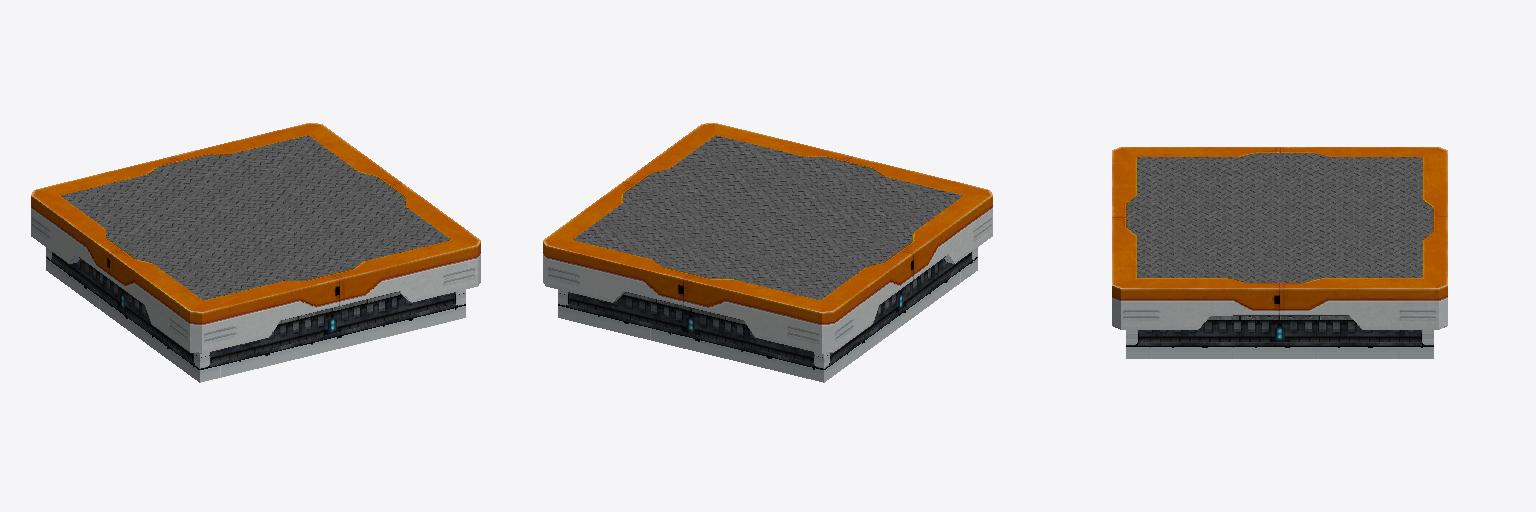
3 views of the same model, side by side, from view 1: azimuth 30°, elevation 25°; view 2: azimuth 150°, elevation 25°; view 3: azimuth 270°, elevation 25° (orthographic).
Visible parts, largest first — view 1: polygon3, polygon0, polygon1, polygon4, polygon2; view 2: polygon3, polygon0, polygon1, polygon4, polygon2; view 3: polygon3, polygon1, polygon0, polygon4, polygon2.
Boxes of the visible parts, x1,y1,x2,y2 form: polygon3: [61, 135, 450, 300]; polygon0: [31, 196, 480, 353]; polygon1: [31, 123, 480, 312]; polygon4: [52, 252, 454, 366]; polygon2: [46, 255, 465, 382]; polygon3: [573, 135, 962, 300]; polygon0: [543, 196, 992, 353]; polygon1: [543, 123, 992, 312]; polygon4: [569, 252, 971, 366]; polygon2: [558, 255, 977, 382]; polygon3: [1126, 153, 1433, 282]; polygon1: [1112, 147, 1447, 288]; polygon0: [1112, 286, 1447, 329]; polygon4: [1139, 316, 1420, 345]; polygon2: [1126, 346, 1433, 358].
Bounding box in the file's own units: 40 × 10 × 40.
6 materials, 5 textured.